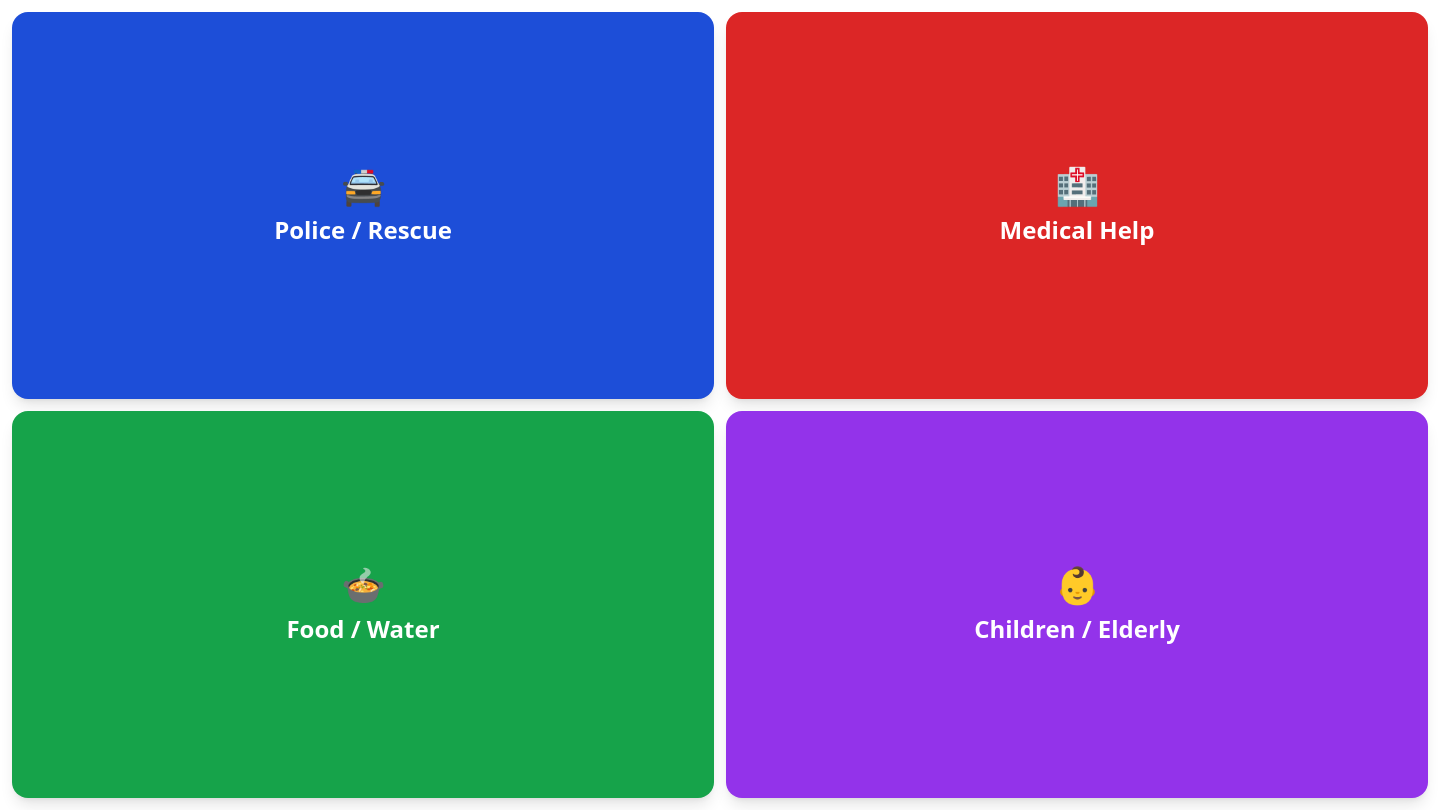
Test case: HomeScreen › disables buttons while SOS creation is in progress
This screenshot has width=1440, height=810.
Click the button "🚔 Police / Rescue".
click(363, 206)  # box [12, 12, 714, 399]
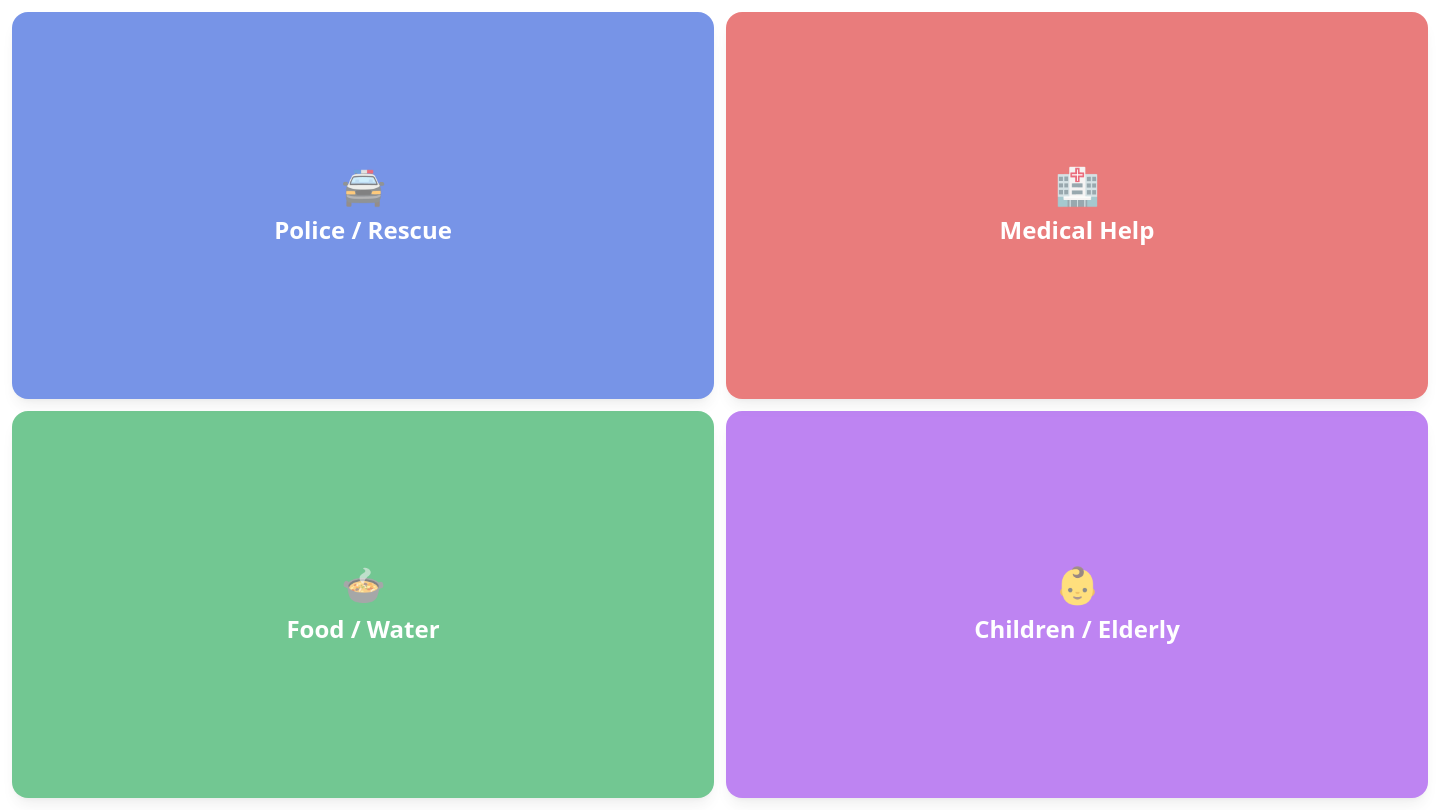
Expected: the button "🚔 Police / Rescue" is disabled, [12, 12, 714, 399]
Expected: the button "🏥 Medical Help" is disabled, [726, 12, 1428, 399]
Expected: the button "🍲 Food / Water" is disabled, [12, 411, 714, 798]
